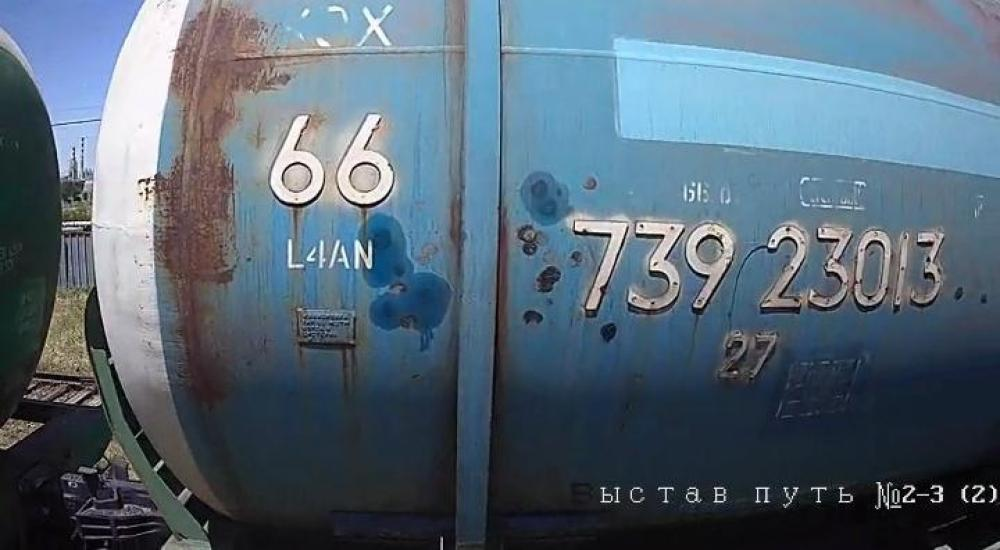Wagon-number: (565, 216, 950, 320)
